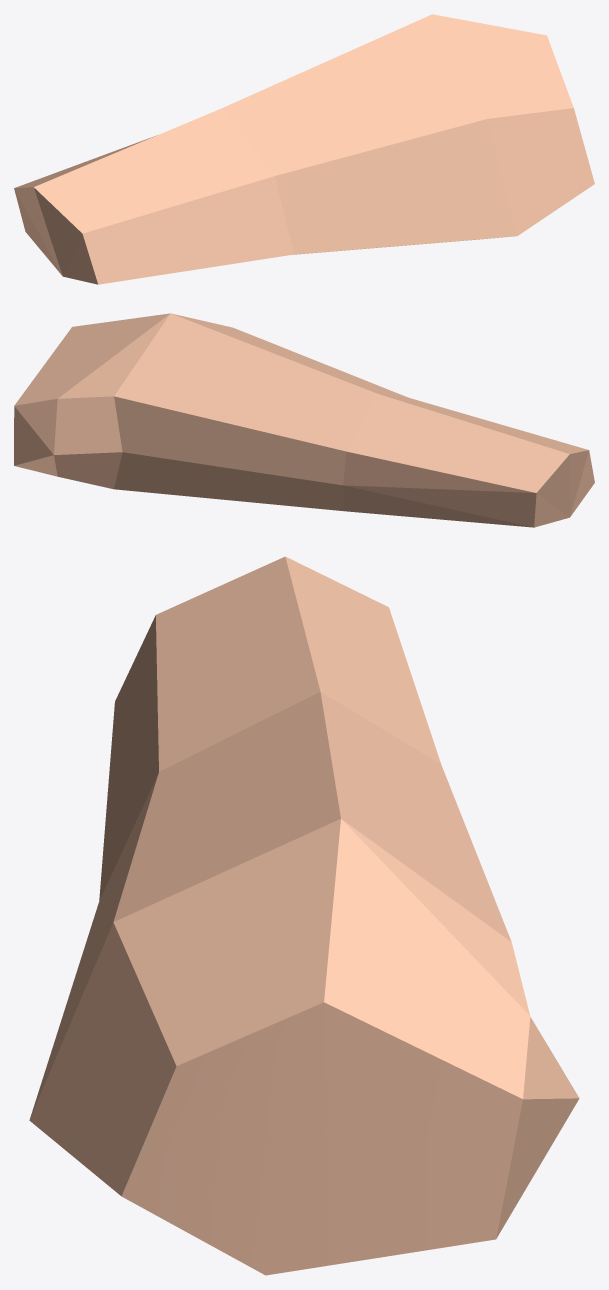
File: Chr_ArmLowerRight_Male_00_Static.fbx
3 renders of one model, top to bottom at view 1: azimuth 30°, elevation 25°; view 2: azimuth 150°, elevation 25°; view 3: azimuth 270°, elevation 25°, orthographic. The views are drawn at different scales.
Parts seen in each view (by area): view 1: Chr_ArmLowerRight_Male_00_Static; view 2: Chr_ArmLowerRight_Male_00_Static; view 3: Chr_ArmLowerRight_Male_00_Static.
Boxes of the visible parts, x1,y1,x2,y2 form: Chr_ArmLowerRight_Male_00_Static: (14, 14, 594, 284); Chr_ArmLowerRight_Male_00_Static: (14, 313, 594, 527); Chr_ArmLowerRight_Male_00_Static: (29, 556, 579, 1275).
Bounding box in the file's own units: 0.2896 × 0.1092 × 0.1371.
